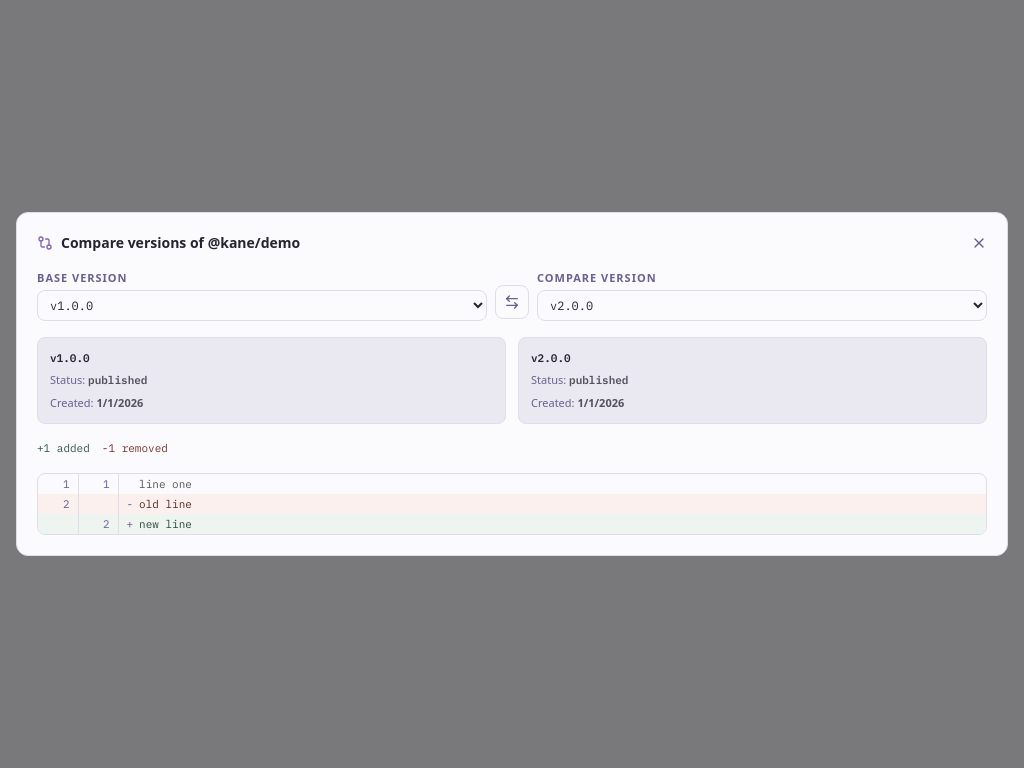
Scenario: VersionCompareModal › swaps the compared versions
The width and height of the screenshot is (1024, 768).
Expected: the text "+1 added" is shown, [37,440,90,457]
Expected: the dropdown named "Base version" shows "v1.0.0", [37,290,487,321]
Click the button named "Swap versions" at [512, 302], box [495,285,529,319]
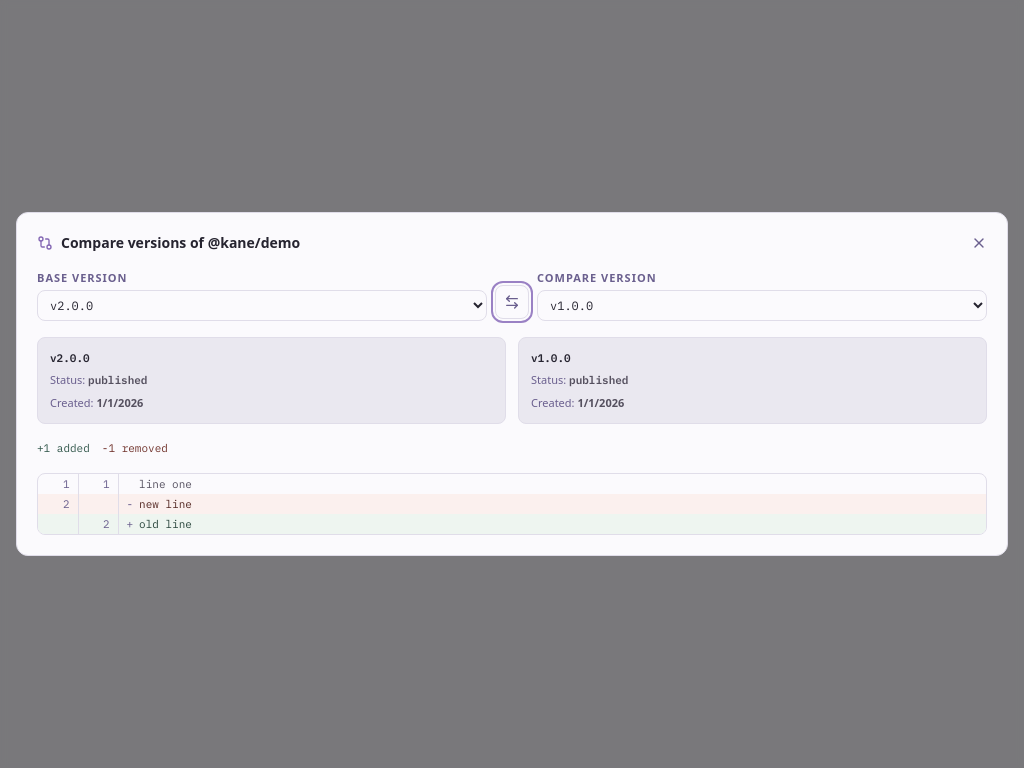
Result: the dropdown named "Base version" shows "v2.0.0" at [37,290,487,321]
Result: the dropdown named "Compare version" shows "v1.0.0" at [537,290,987,321]
